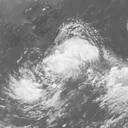cyclone: (40, 36, 100, 81)
